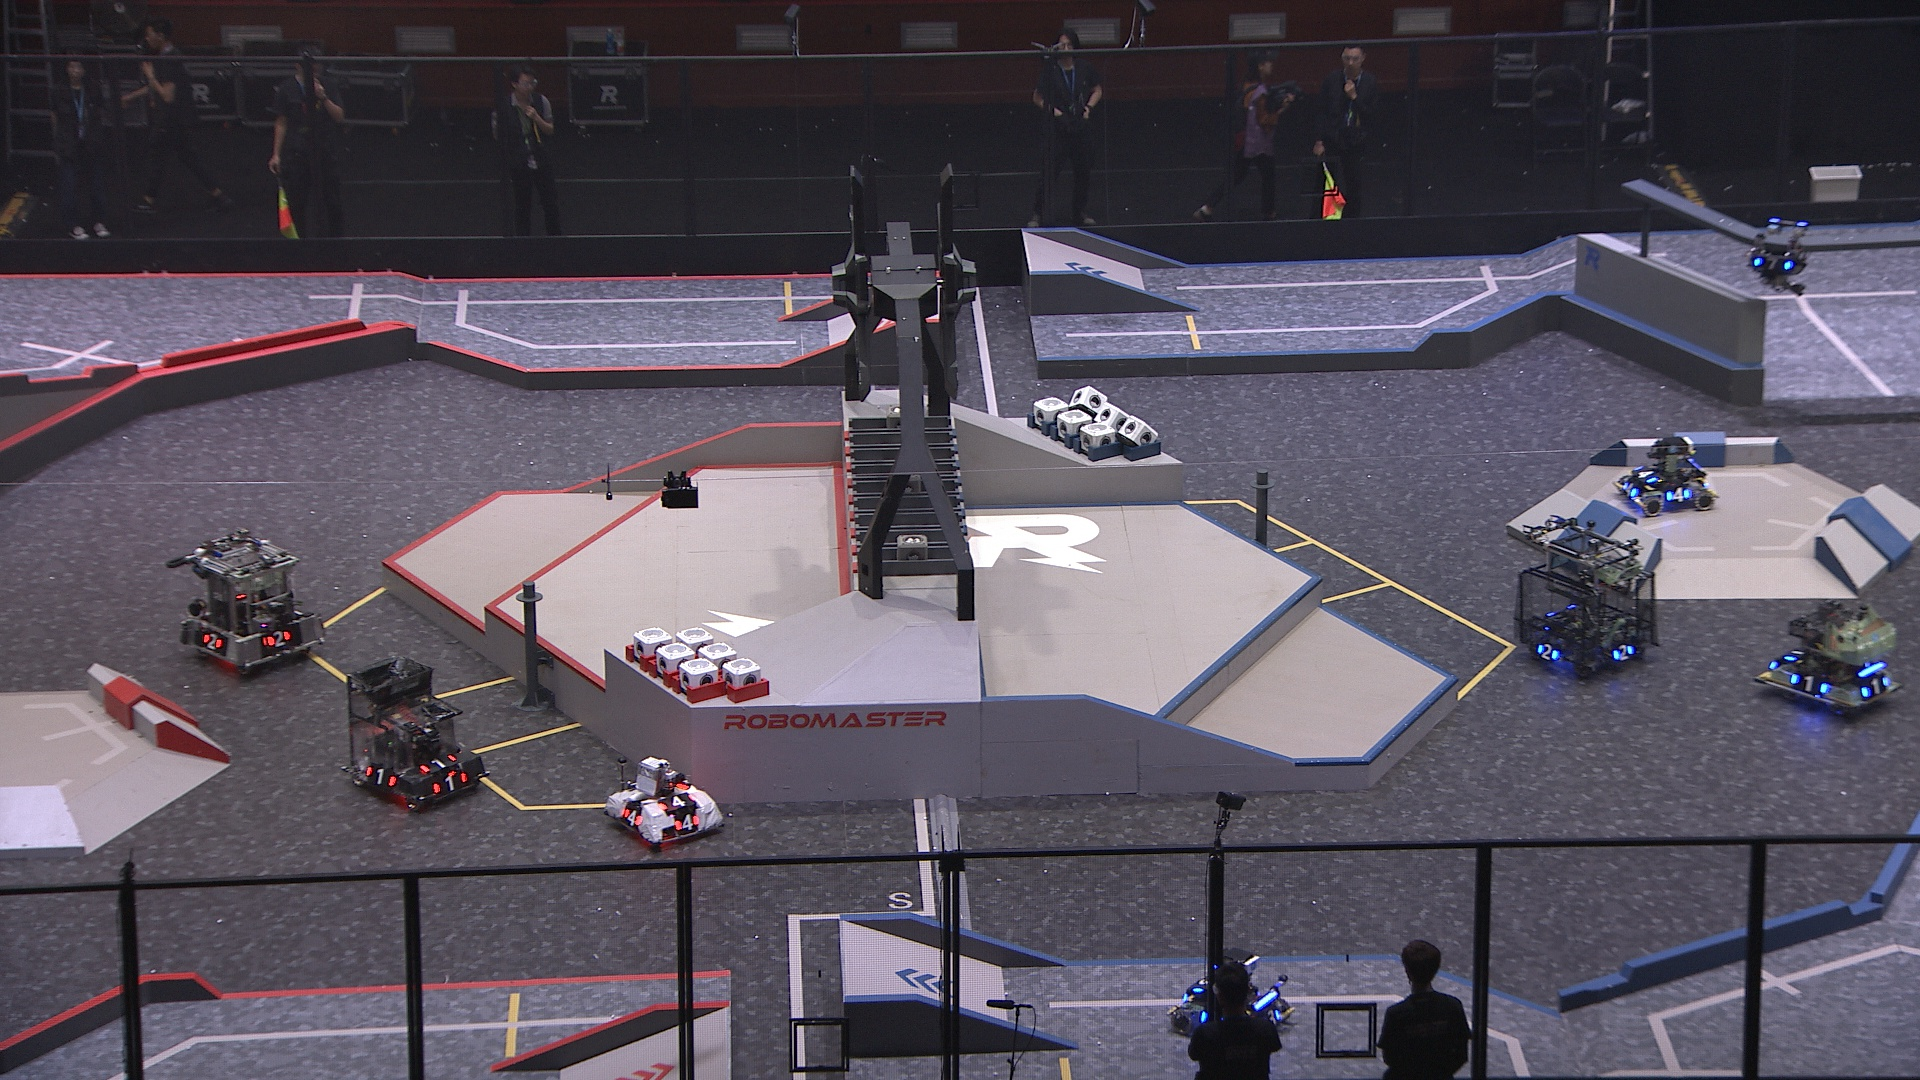armor: (419, 752, 458, 777), (1789, 673, 1832, 695), (1859, 676, 1892, 702), (365, 766, 400, 789), (659, 793, 698, 812), (433, 773, 468, 794), (1754, 256, 1793, 273), (200, 632, 225, 654), (1613, 642, 1636, 665), (674, 814, 702, 832), (1538, 642, 1563, 662), (1634, 465, 1659, 485), (266, 629, 291, 647), (1780, 647, 1807, 665), (1665, 488, 1693, 504), (622, 808, 644, 827), (1267, 1007, 1282, 1029), (1623, 483, 1640, 496)
car: (1513, 516, 1664, 680), (338, 655, 489, 811), (166, 531, 324, 680), (1753, 599, 1904, 719), (1166, 945, 1296, 1044), (605, 756, 727, 855), (1610, 433, 1724, 520)
watcher: (1747, 218, 1811, 295)
